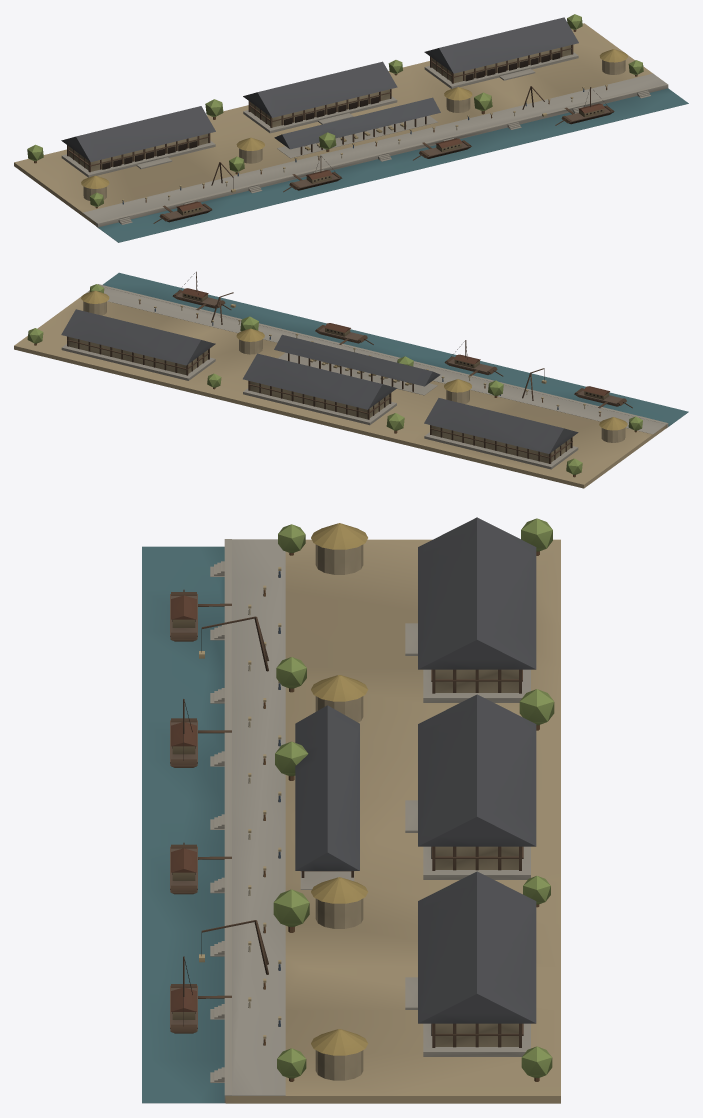
Rendered from bian-wharves.glb.
3 views of the same model, one above another, from view 1: azimuth 30°, elevation 25°; view 2: azimuth 150°, elevation 25°; view 3: azimuth 270°, elevation 25° (orthographic). The views are drawn at different scales.
Visible parts, largest first — view 1: p0_quay, p2_trees, p1_sheds; view 2: p0_quay, p2_trees, p1_sheds; view 3: p0_quay, p2_trees, p1_sheds.
Part boxes in pixels (x1=…): p0_quay: x1=14, y1=23, x2=688, y2=242; p2_trees: x1=27, y1=14, x2=643, y2=223; p1_sheds: x1=61, y1=44, x2=625, y2=200; p0_quay: x1=14, y1=272, x2=688, y2=488; p2_trees: x1=27, y1=271, x2=642, y2=477; p1_sheds: x1=61, y1=301, x2=625, y2=469; p0_quay: x1=142, y1=539, x2=560, y2=1103; p2_trees: x1=170, y1=517, x2=554, y2=1081; p1_sheds: x1=295, y1=544, x2=530, y2=1080.
Size of the model in its own units: 220 by 12.99 by 70.
